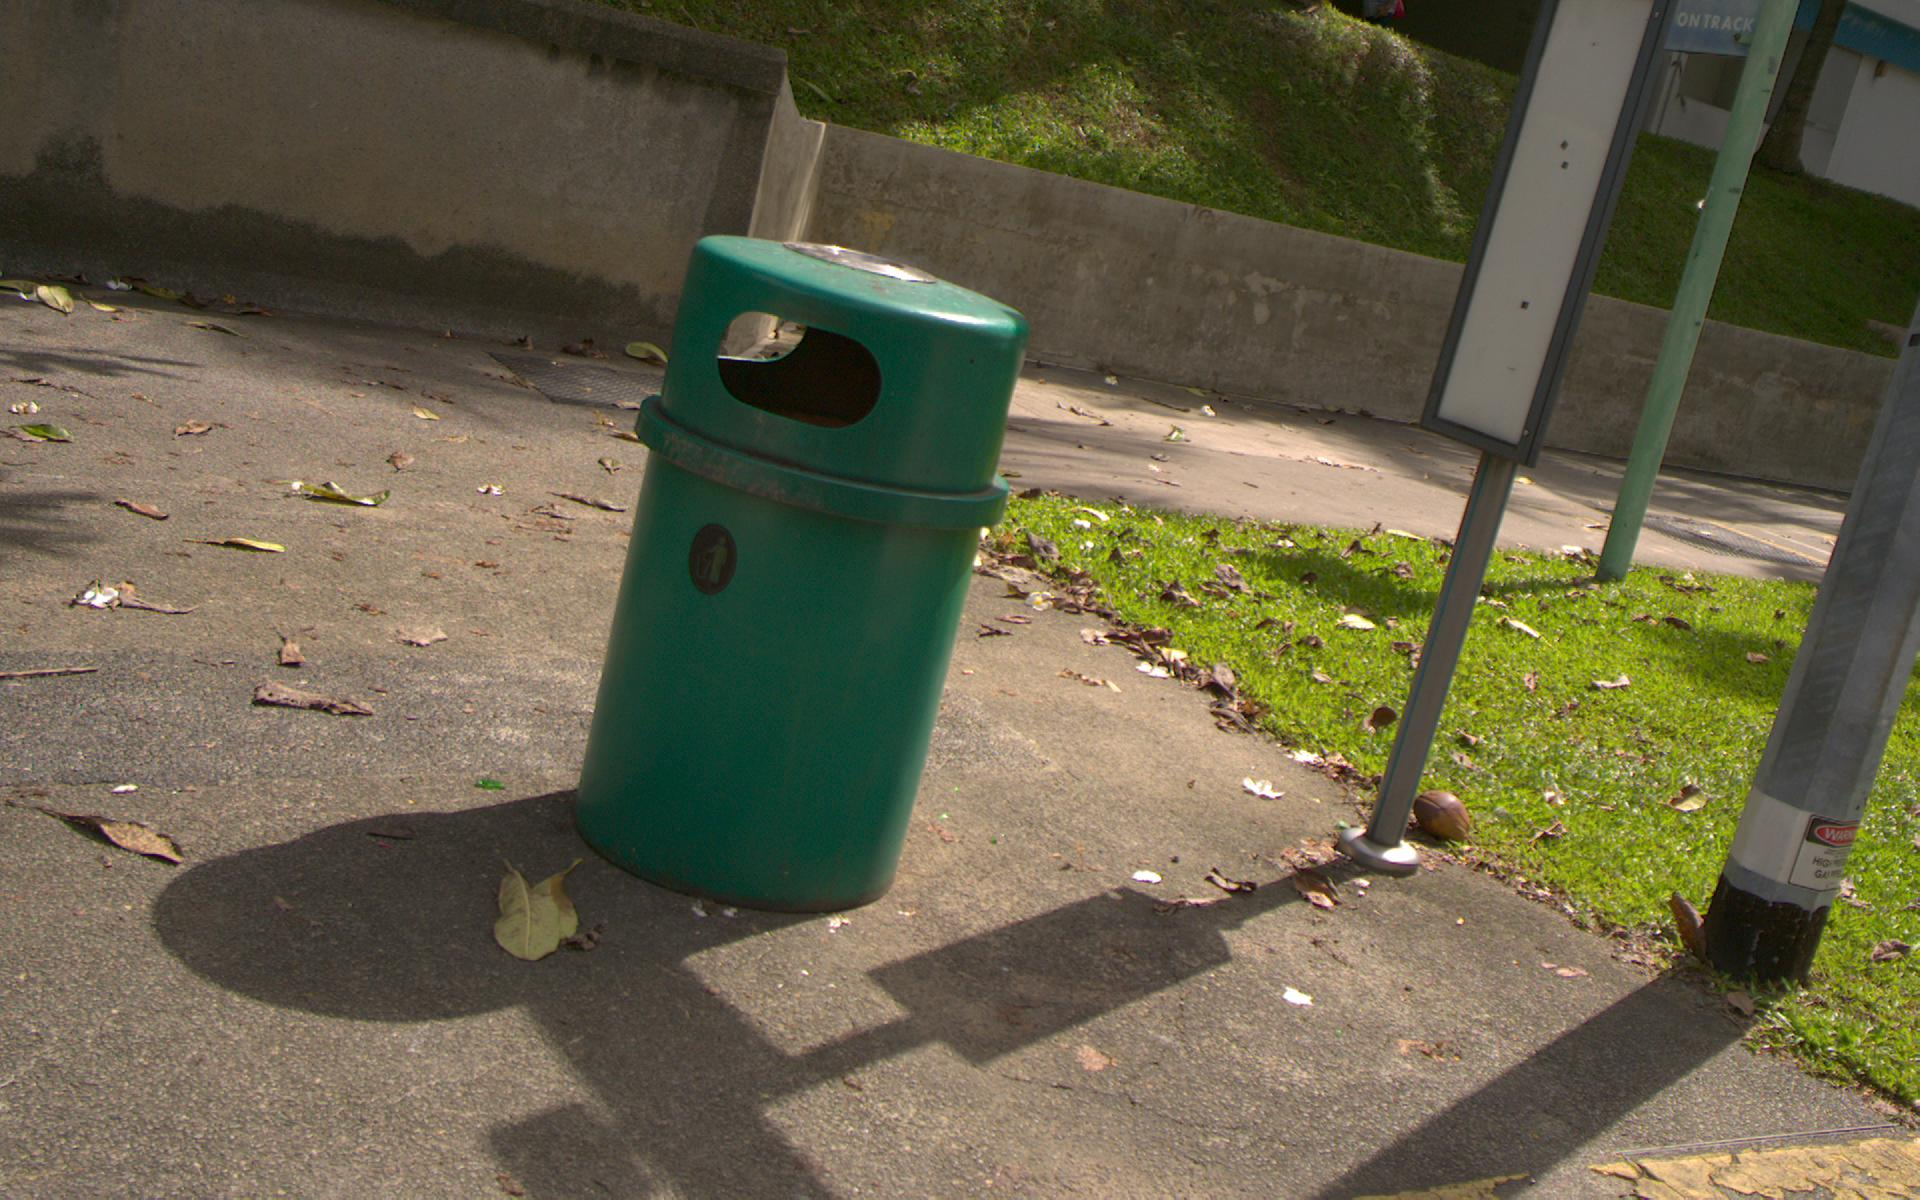dustbin_empty: (558, 223, 1033, 928)
pathway_low: (12, 283, 582, 1200), (592, 937, 1630, 1200), (973, 588, 1093, 924)
road_turf_low: (1450, 582, 1913, 847)
